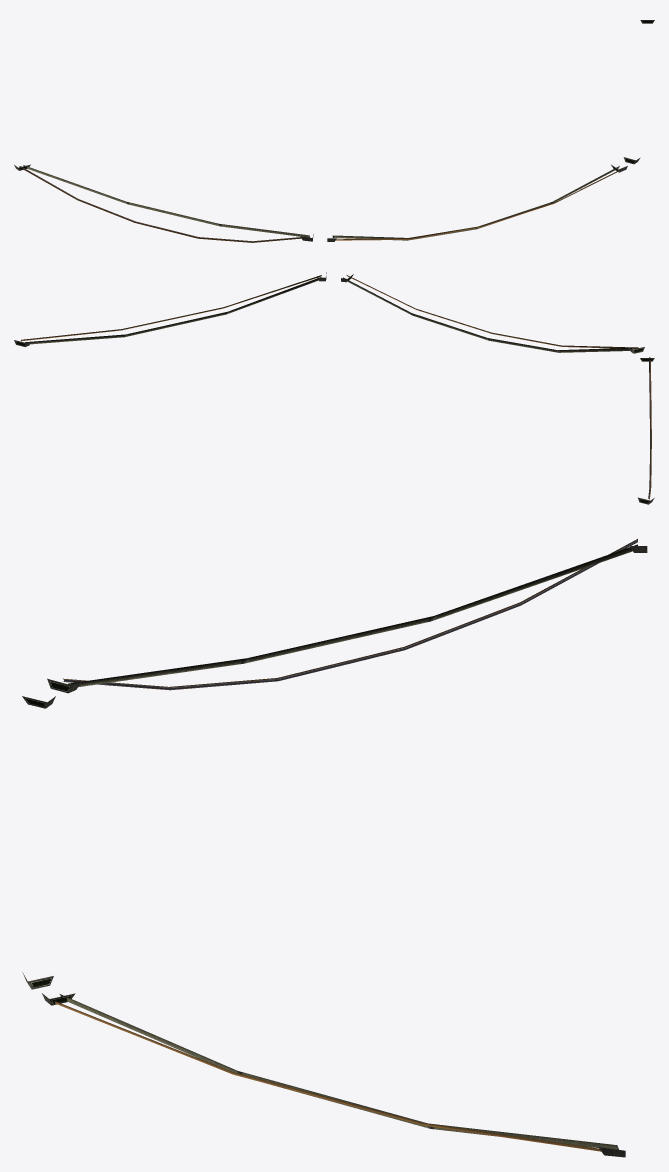
Rendered from M12_TopPipes_A.glb.
3 renders of one model, top to bottom at view 1: azimuth 30°, elevation 25°; view 2: azimuth 150°, elevation 25°; view 3: azimuth 270°, elevation 25°, orthographic. The views are drawn at different scales.
Visible parts, largest first — view 1: M12_TOPPIPES_A; view 2: M12_TOPPIPES_A; view 3: M12_TOPPIPES_A.
Boxes of the visible parts, x1,y1,x2,y2 form: M12_TOPPIPES_A: (14,20,654,242); M12_TOPPIPES_A: (14,272,654,504); M12_TOPPIPES_A: (22,539,647,1157).
Bounding box in the file's own units: 16.22 × 0.727 × 6.94.
Materials: 1 (1 with a texture image).
